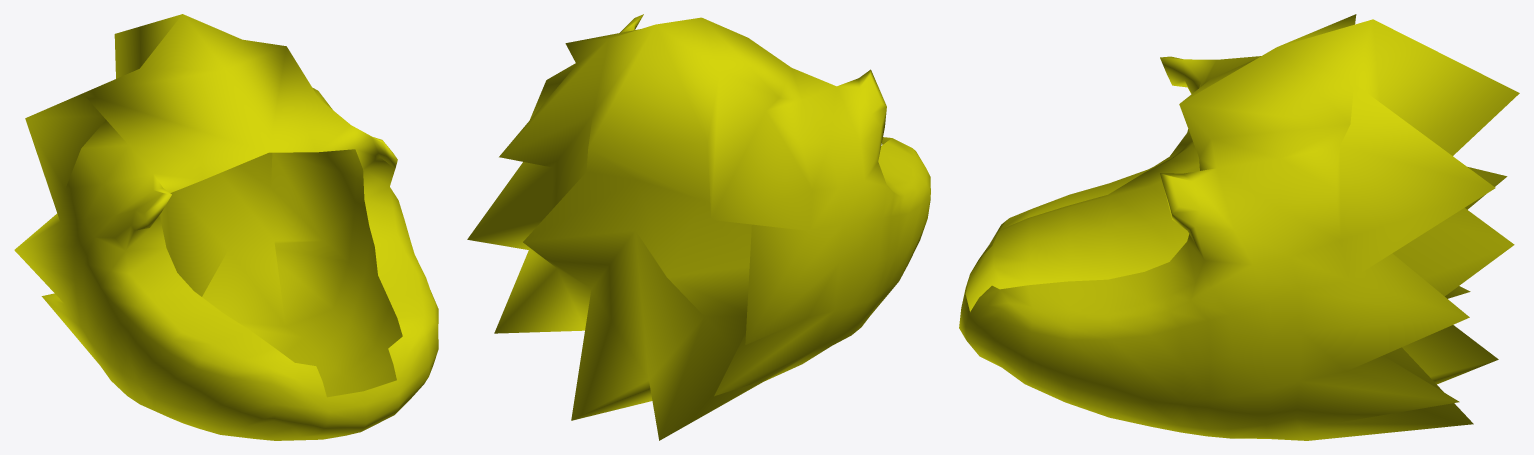
Rendered from cabello goku.dae.
3 views of the same model, side by side, from view 1: azimuth 30°, elevation 25°; view 2: azimuth 150°, elevation 25°; view 3: azimuth 270°, elevation 25° (orthographic). The views are drawn at different scales.
Visible parts, largest first — view 1: pasted__pasted__pasted__polySurface1; view 2: pasted__pasted__pasted__polySurface1; view 3: pasted__pasted__pasted__polySurface1.
Part boxes in pixels (<box>): pasted__pasted__pasted__polySurface1: <box>14,14,438,440</box>; pasted__pasted__pasted__polySurface1: <box>467,14,930,440</box>; pasted__pasted__pasted__polySurface1: <box>959,14,1519,440</box>.
Size of the model in its own units: 0.9467 by 1.39 by 1.11.
